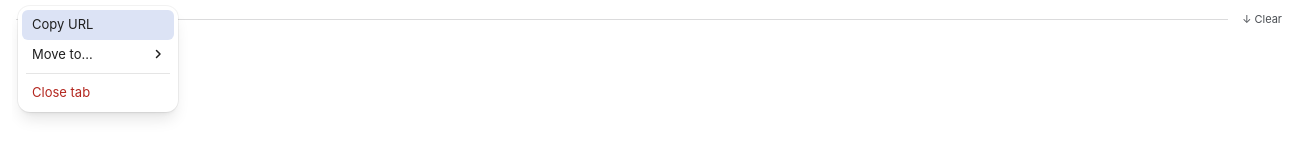
closes the tab from its right-click menu
The width and height of the screenshot is (1292, 160).
Step 1. Click the menu item "Close tab" → point(98, 93), box [22, 78, 174, 108]
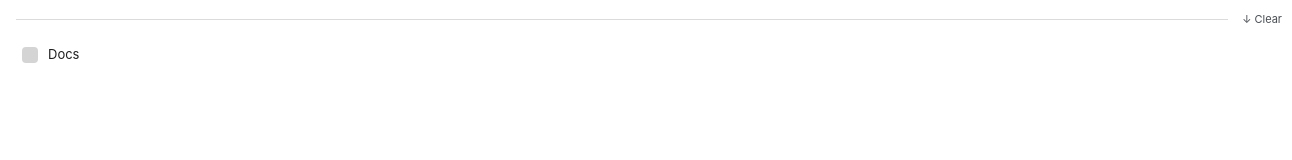
Now the menu is gone
